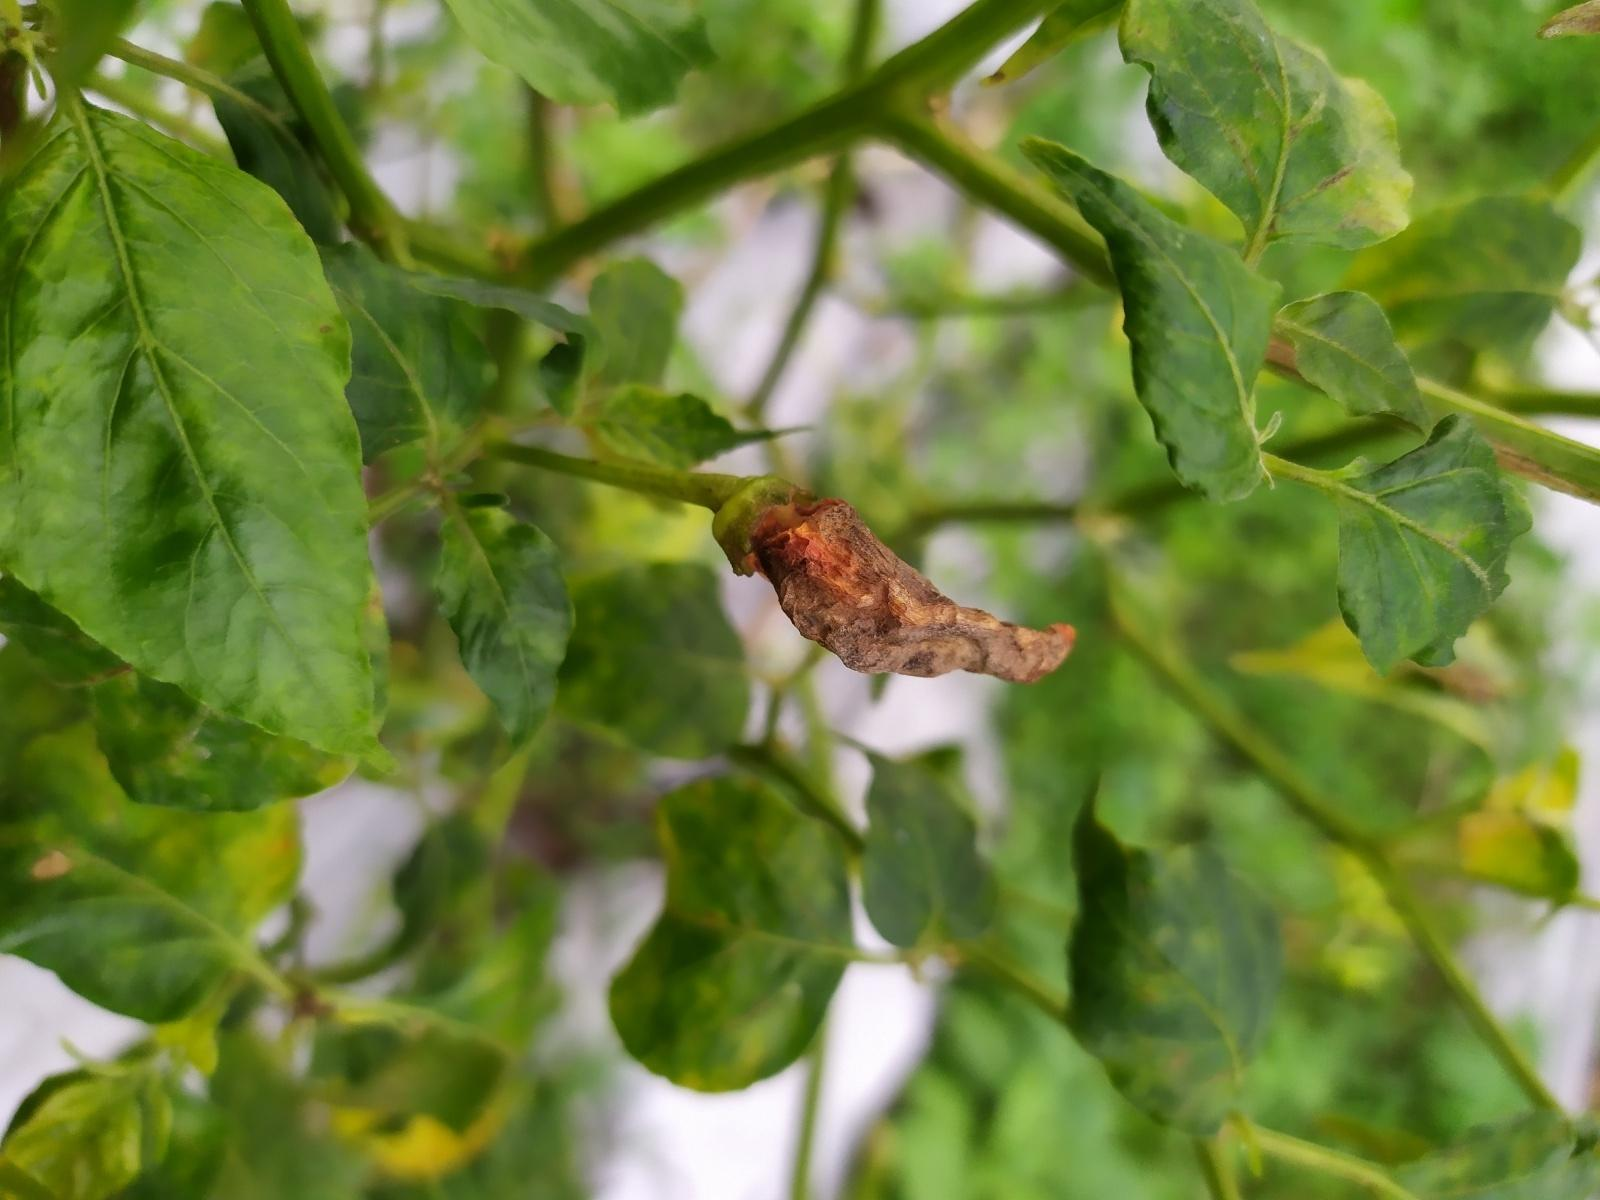antraknosa: (726, 493, 1078, 687)
